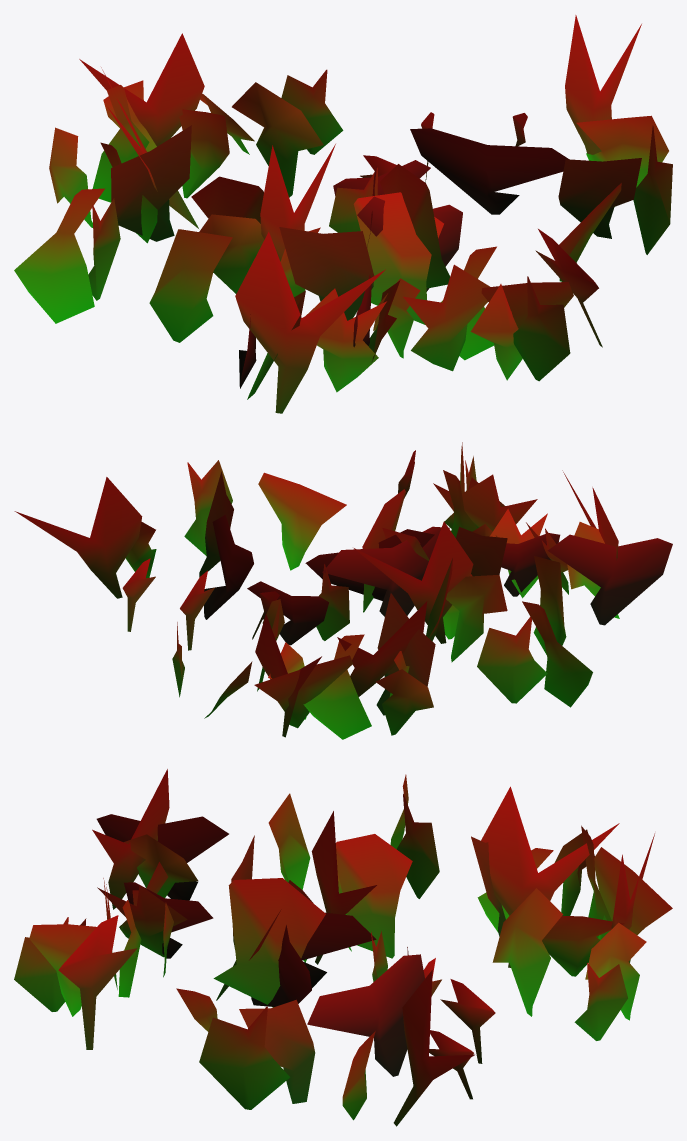
File: Grass_02.fbx
The picture shows the model from 3 angles, top to bottom: view 1: azimuth 30°, elevation 25°; view 2: azimuth 150°, elevation 25°; view 3: azimuth 270°, elevation 25°; orthographic projection. The views are drawn at different scales.
Visible parts, largest first — view 1: Grass_02; view 2: Grass_02; view 3: Grass_02.
Part boxes in pixels (x1=…): Grass_02: x1=14, y1=15, x2=672, y2=413; Grass_02: x1=14, y1=442, x2=672, y2=739; Grass_02: x1=14, y1=769, x2=672, y2=1126.
Size of the model in its own units: 86.36 by 20.69 by 78.5.
